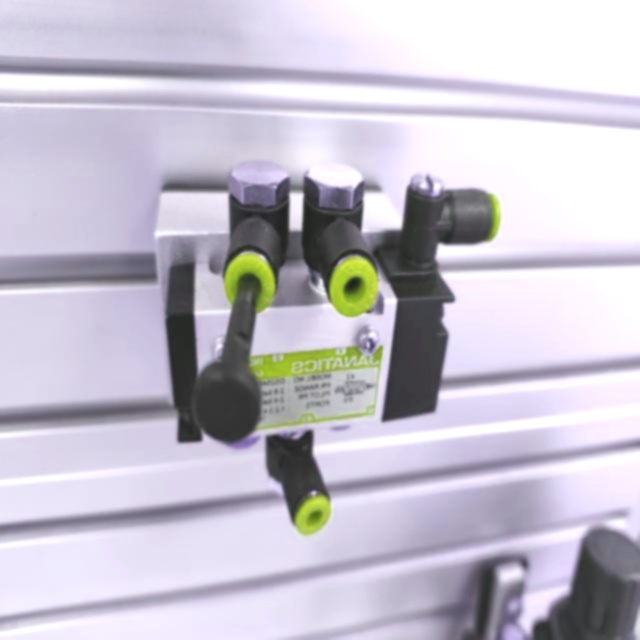5by2 DCV: (135, 152, 507, 543)
